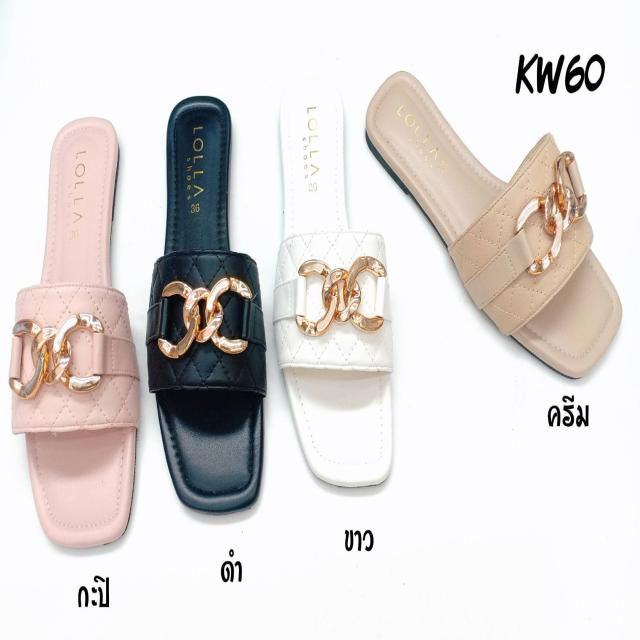black: (152, 98, 258, 504)
cream: (364, 74, 622, 380)
kapi: (21, 120, 136, 548)
white: (275, 86, 397, 488)
